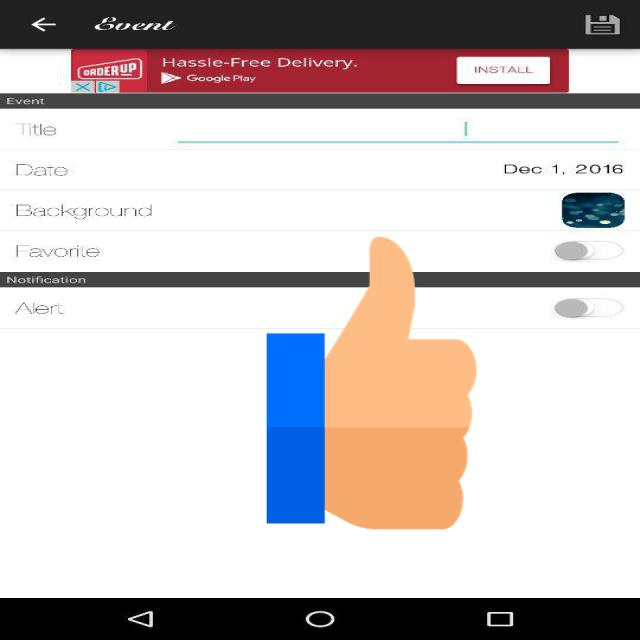privacy zuckering: (266, 229, 476, 537)
